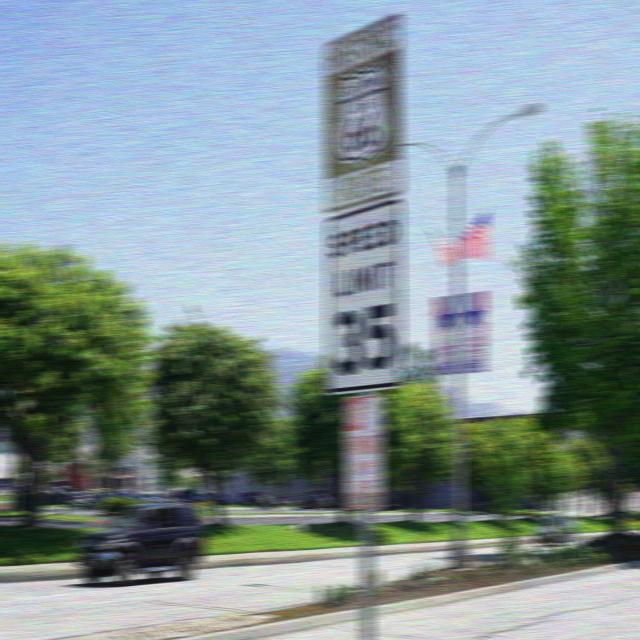speedLimit35: (323, 203, 402, 392)
